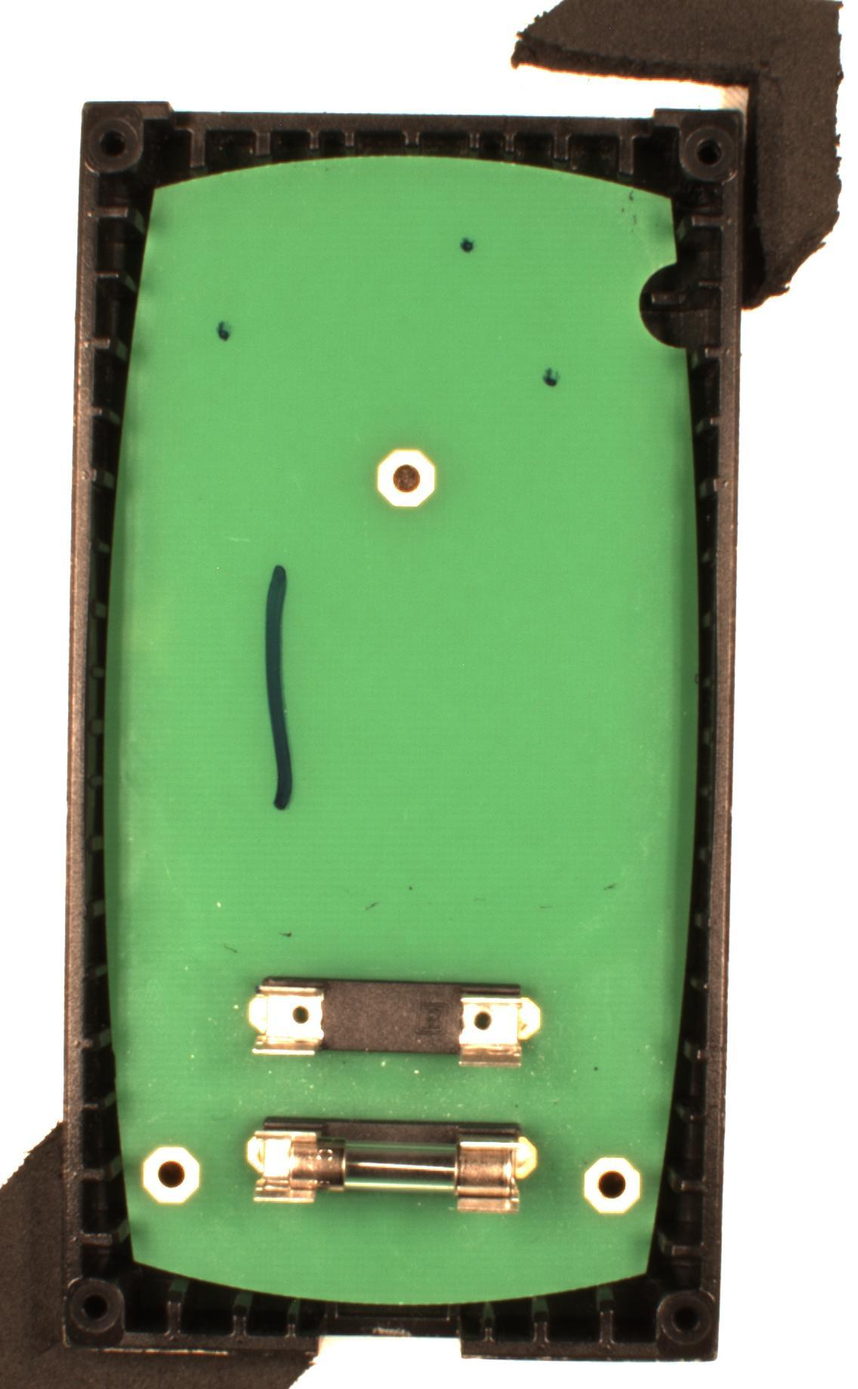Linijsko Ostecene: (263, 563, 296, 811)
Nepostojanje osiguraca: (245, 974, 541, 1069)
Tockasto Ostecenje: (542, 365, 561, 389), (216, 319, 233, 343), (458, 233, 477, 254)
